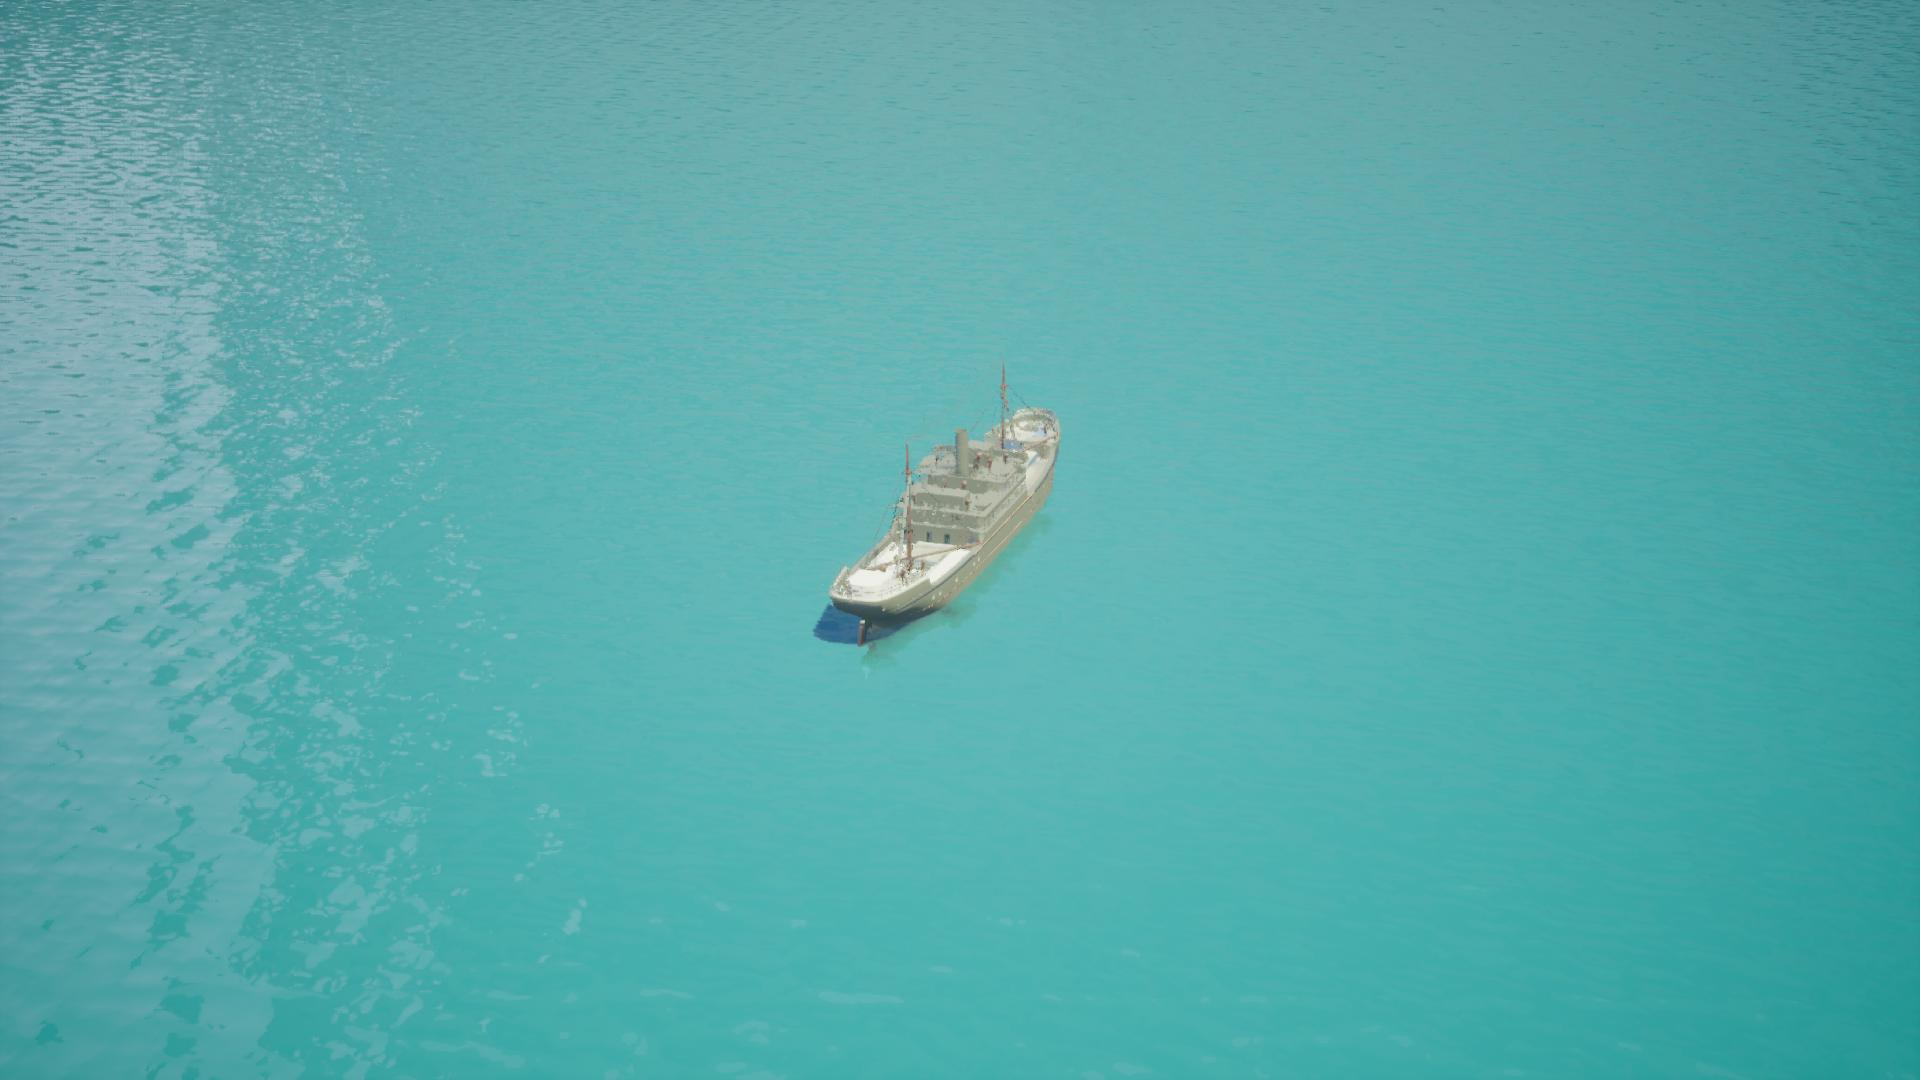Fishing Boat: (828, 394, 1060, 657)
